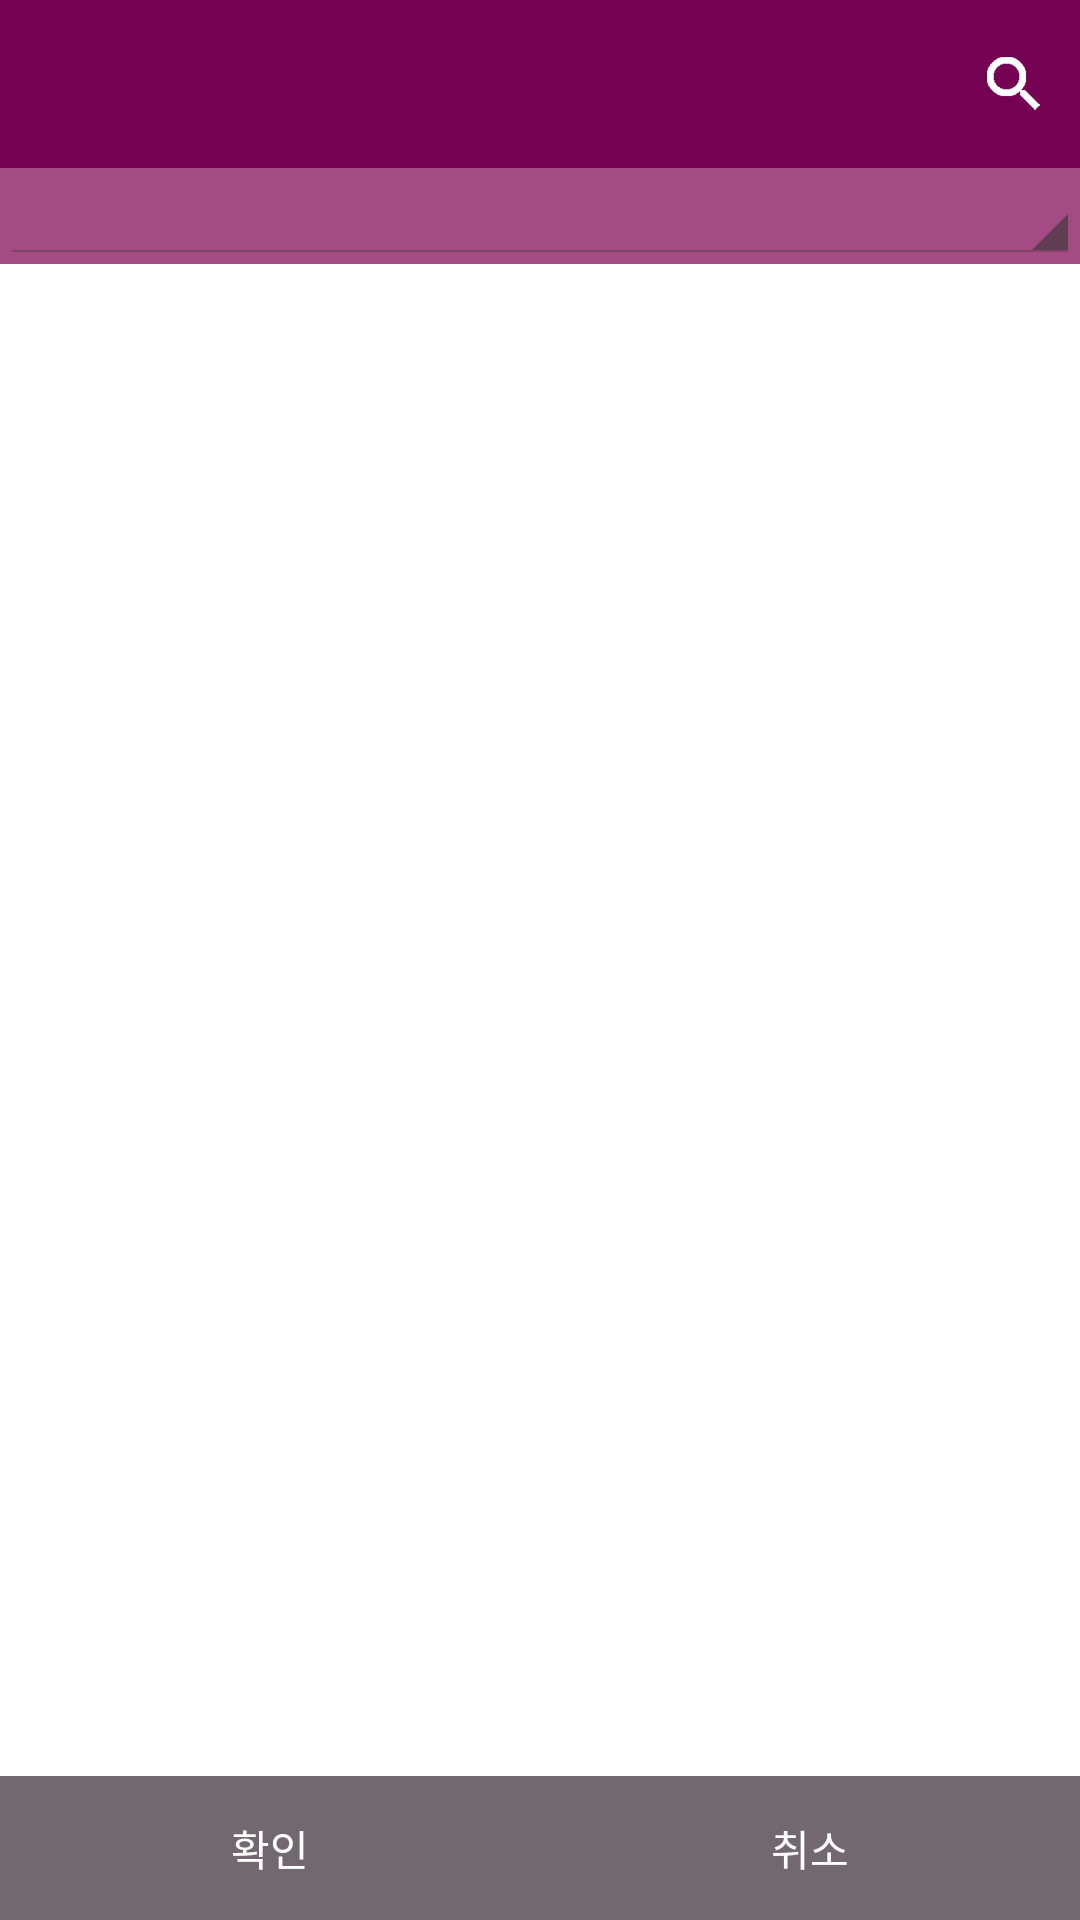

Icon bounding boxes for this 1080px x 1920px phone screenshot, format (x1=x1, y1=y1, x2=x2, y2=y2):
search: (x1=987, y1=57, x2=1040, y2=110)
